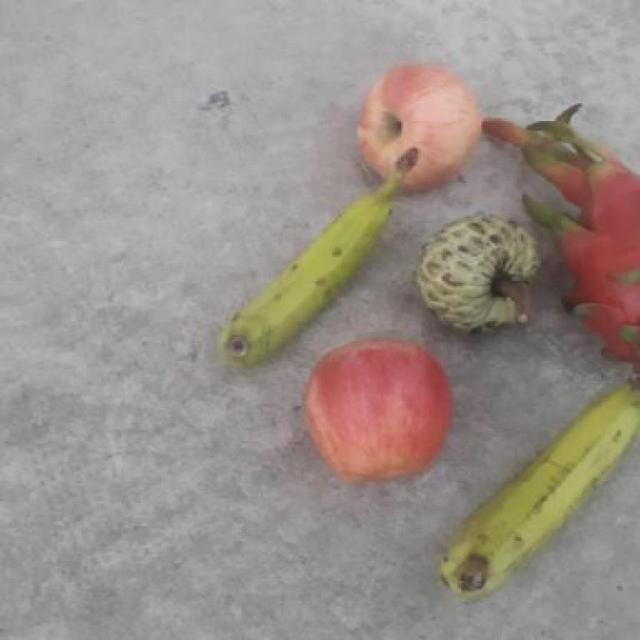apple: (302, 333, 455, 484), (353, 60, 484, 197)
banana: (213, 145, 422, 369), (441, 372, 640, 598)
dragon fruit: (552, 158, 639, 378)
sugar apple: (412, 211, 545, 338)
